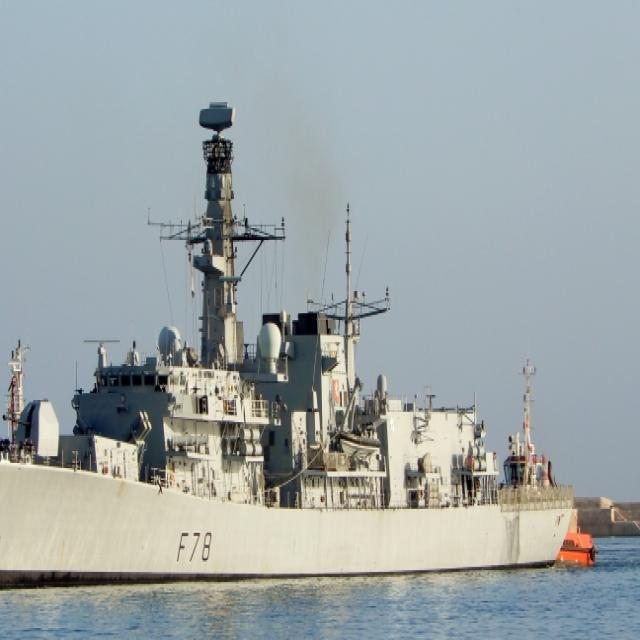Fragata: (1, 98, 581, 593)
